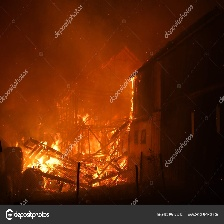fire: (91, 78, 134, 186), (22, 132, 72, 187)
